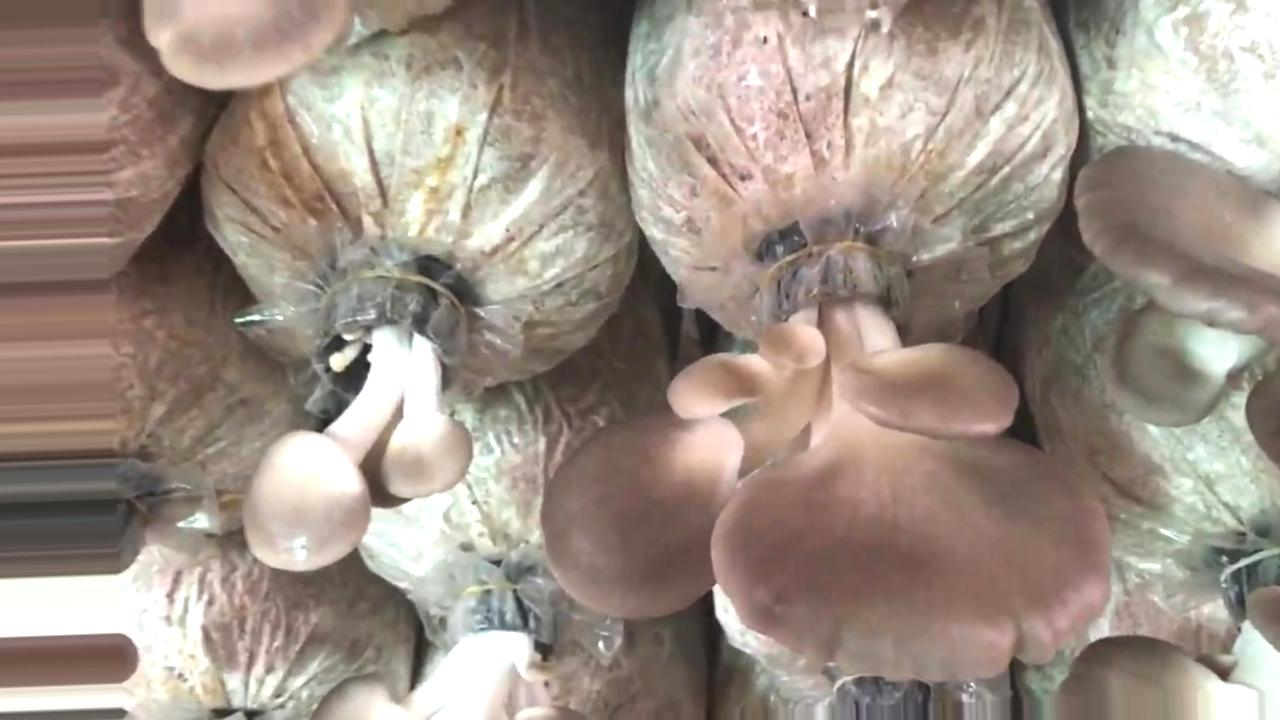nam: (543, 246, 1110, 680), (245, 264, 482, 570), (1078, 146, 1280, 459), (318, 589, 584, 720), (1058, 637, 1277, 720), (148, 2, 342, 91)
